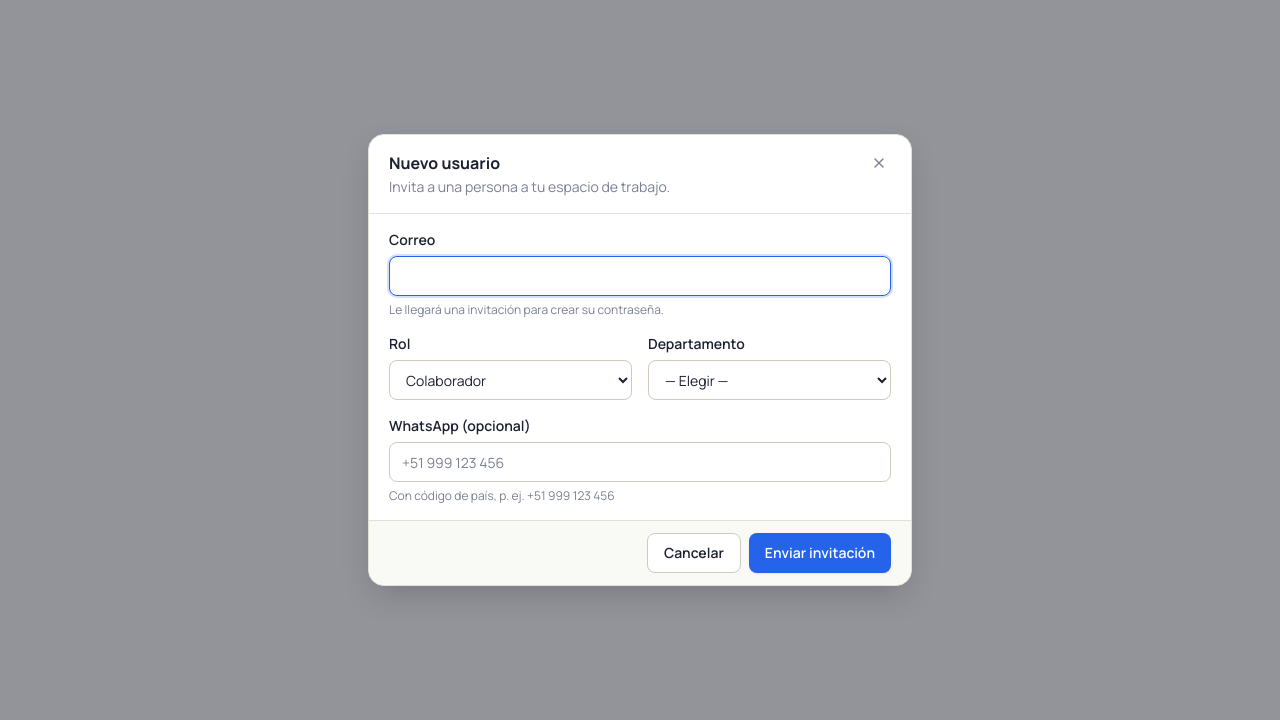
Test case: CreateUserModal › shows "already has an account" on the email field
The image size is (1280, 720).
In the field labelled "Correo": [640, 276] box left=389, top=256, right=891, bottom=296, type "ana@central.local"
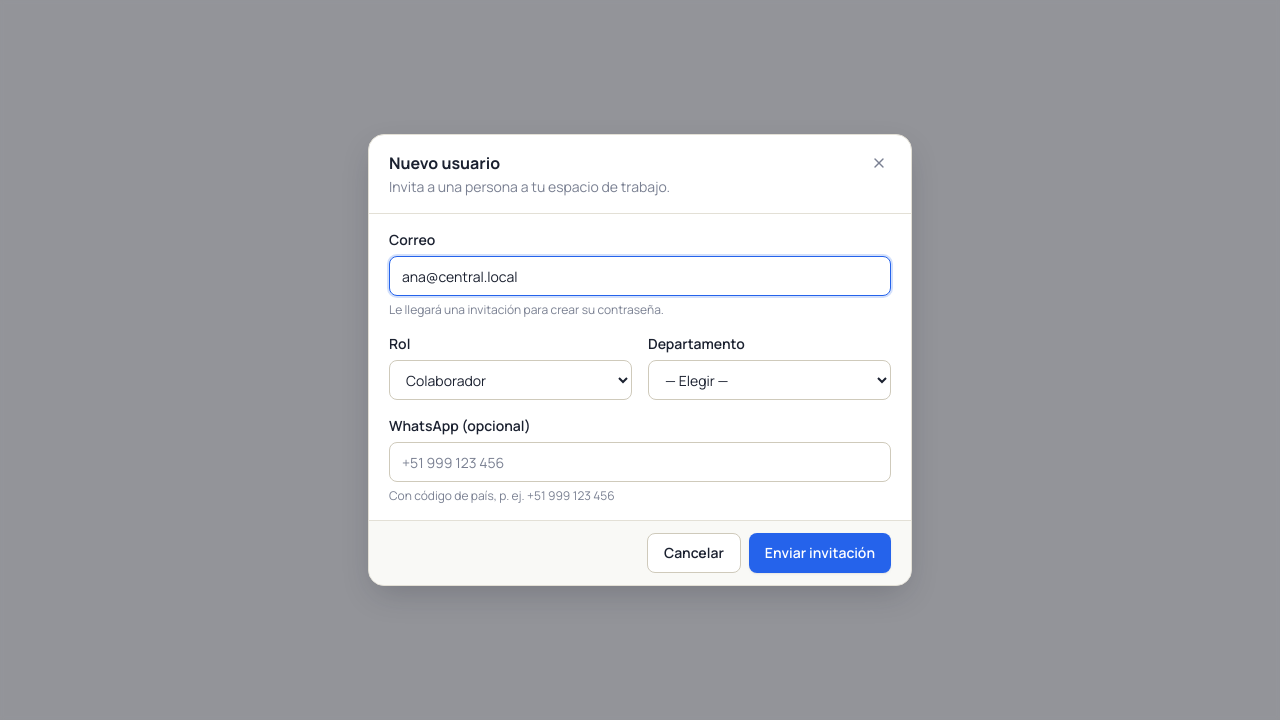
Select "Marketing" in the dropdown labelled "Departamento": [770, 380] box left=648, top=360, right=891, bottom=400
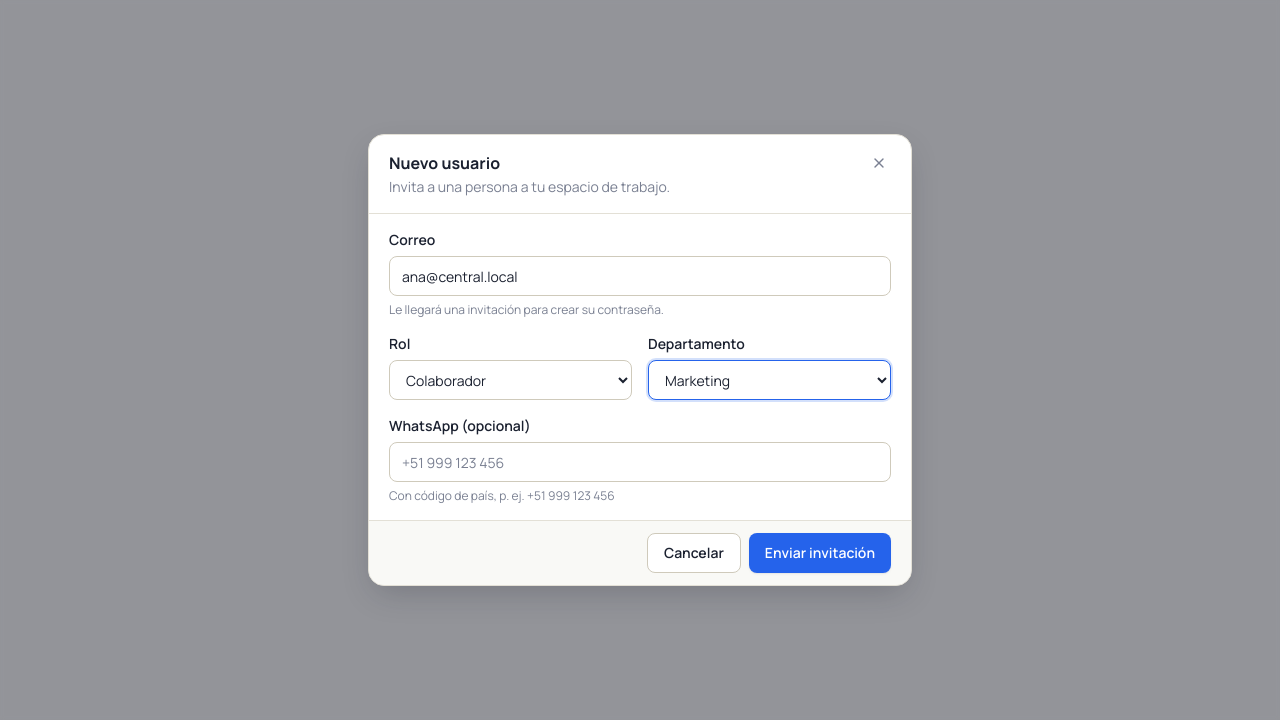
Click the button "Enviar invitación": [820, 553] box left=749, top=533, right=891, bottom=573
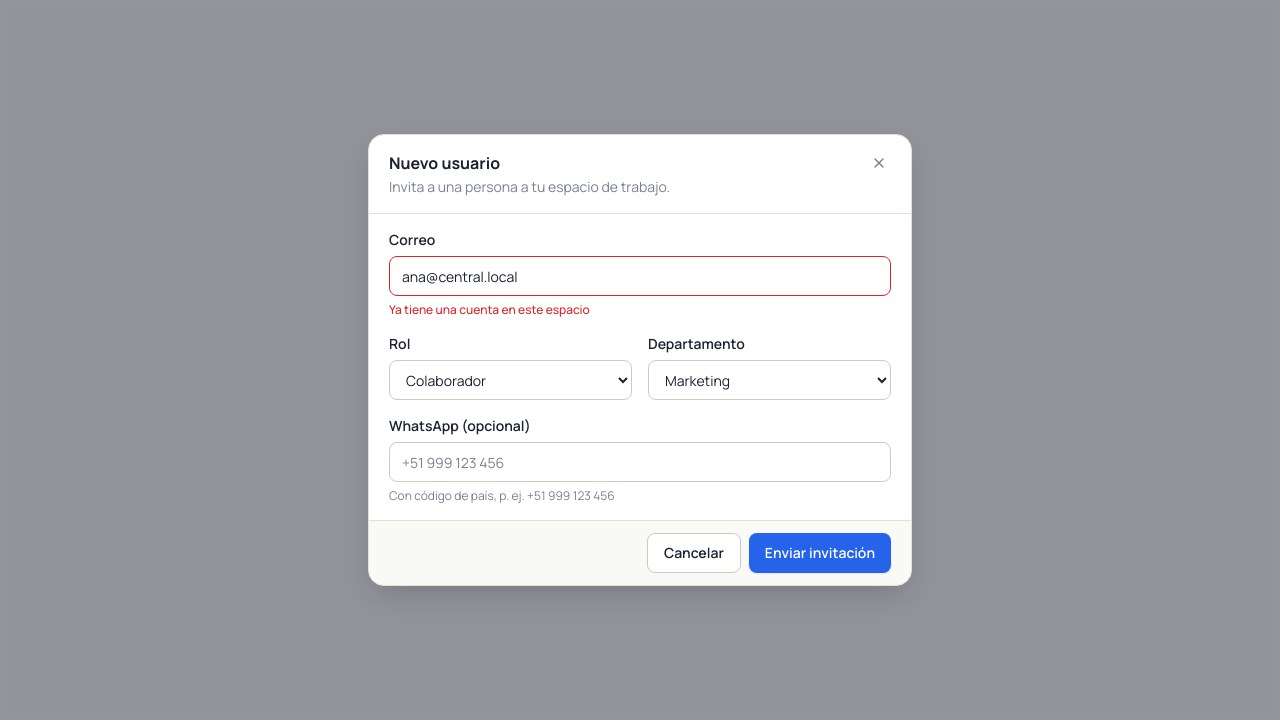
Result: the text "Ya tiene una cuenta en este espacio" is shown at left=389, top=301, right=590, bottom=318
